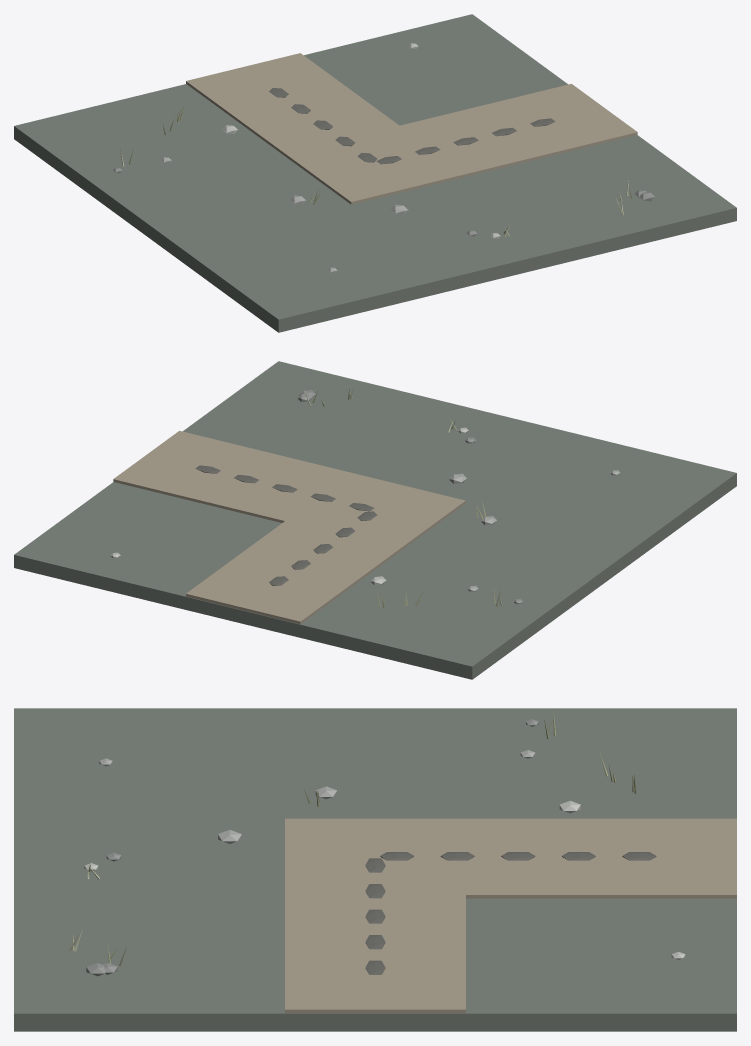
The model's file is path_bend_ne.glb.
3 views of the same model, one above another, from view 1: azimuth 30°, elevation 25°; view 2: azimuth 150°, elevation 25°; view 3: azimuth 270°, elevation 25° (orthographic). The views are drawn at different scales.
Visible parts, largest first — view 1: road_material_00, road_material_01, road_material_07; view 2: road_material_00, road_material_01, road_material_07; view 3: road_material_00, road_material_01, road_material_07, road_material_06.
Part boxes in pixels (bbox=[...]): road_material_00: bbox=[14, 14, 736, 332]; road_material_01: bbox=[186, 53, 637, 204]; road_material_07: bbox=[269, 88, 555, 164]; road_material_00: bbox=[14, 361, 736, 679]; road_material_01: bbox=[113, 431, 465, 624]; road_material_07: bbox=[195, 465, 377, 585]; road_material_00: bbox=[14, 708, 736, 1031]; road_material_01: bbox=[285, 818, 736, 1013]; road_material_07: bbox=[365, 852, 656, 974]; road_material_06: bbox=[99, 750, 535, 843].
Size of the model in its own units: 8 by 0.5293 by 8.
